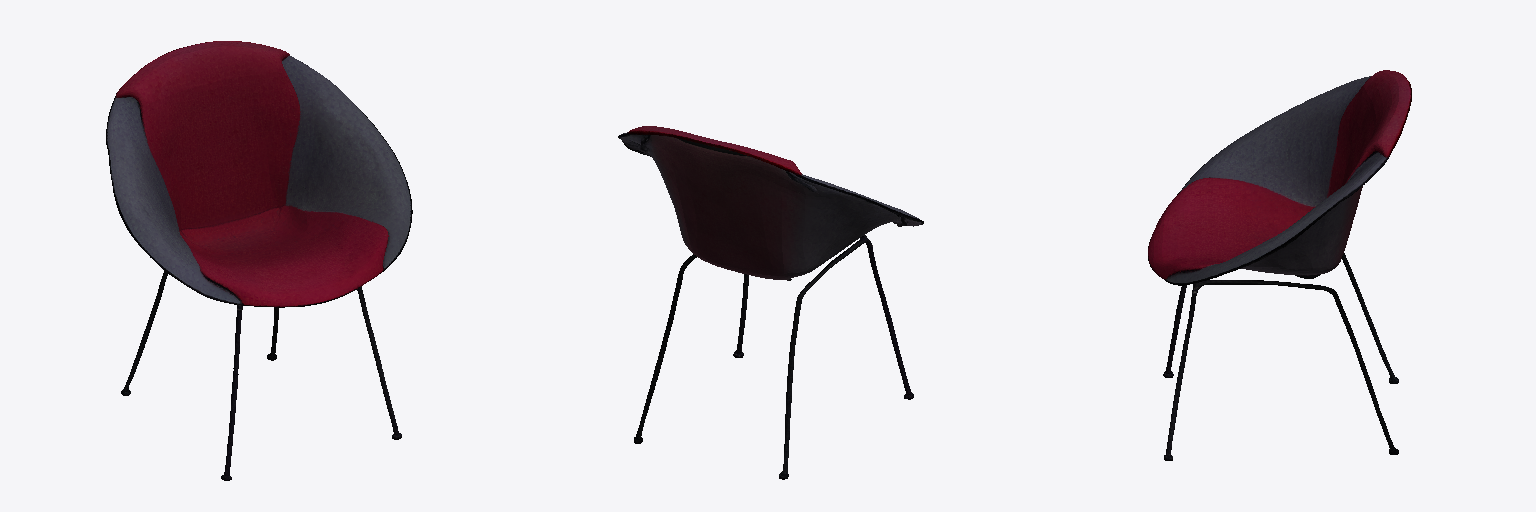
3 views of the same model, side by side, from view 1: azimuth 30°, elevation 25°; view 2: azimuth 150°, elevation 25°; view 3: azimuth 270°, elevation 25° (orthographic).
Visible parts, largest first — view 1: geometry_0; view 2: geometry_0; view 3: geometry_0.
Boxes of the visible parts, x1=… form: geometry_0: x1=106, y1=41, x2=412, y2=480; geometry_0: x1=618, y1=126, x2=923, y2=479; geometry_0: x1=1148, y1=70, x2=1411, y2=460.
Size of the model in its own units: 0.8743 by 0.9978 by 0.737.
1 materials, 1 textured.